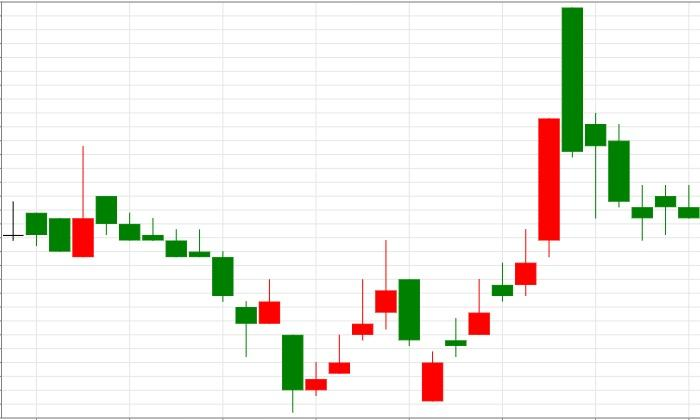three_white_soldiers_rise: (95, 195, 374, 412)
